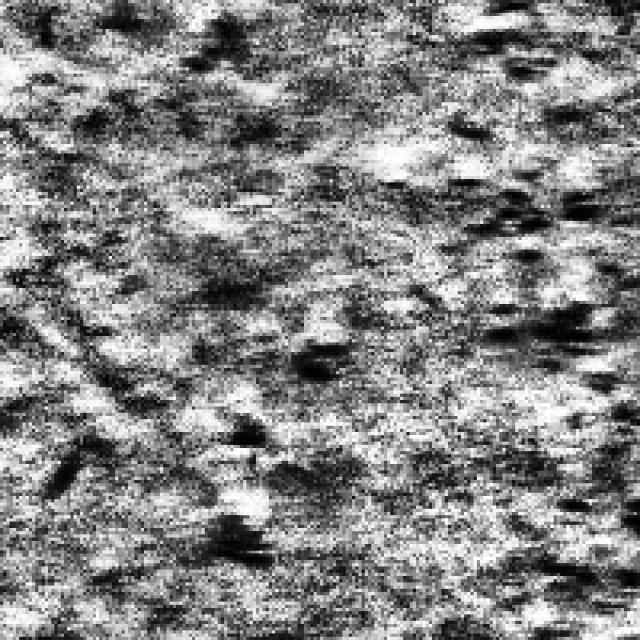Crazing: (438, 19, 628, 624), (176, 330, 339, 564), (460, 0, 582, 96)
